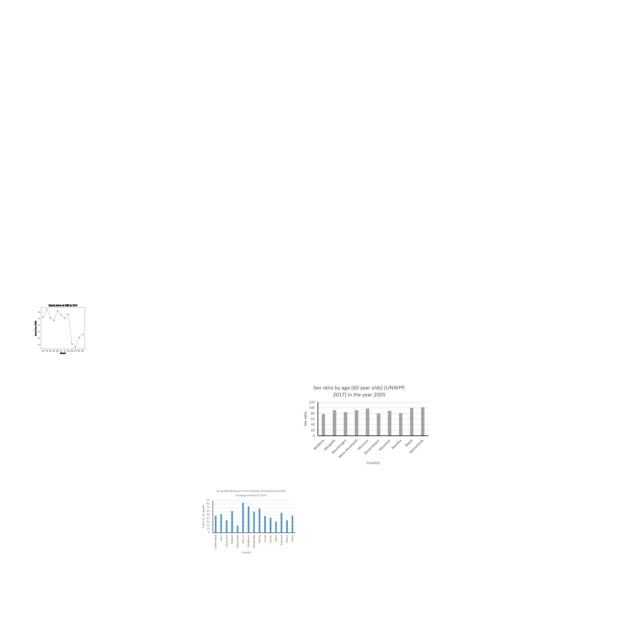Graph: (300, 383, 431, 469), (199, 487, 297, 556), (26, 301, 98, 355)
